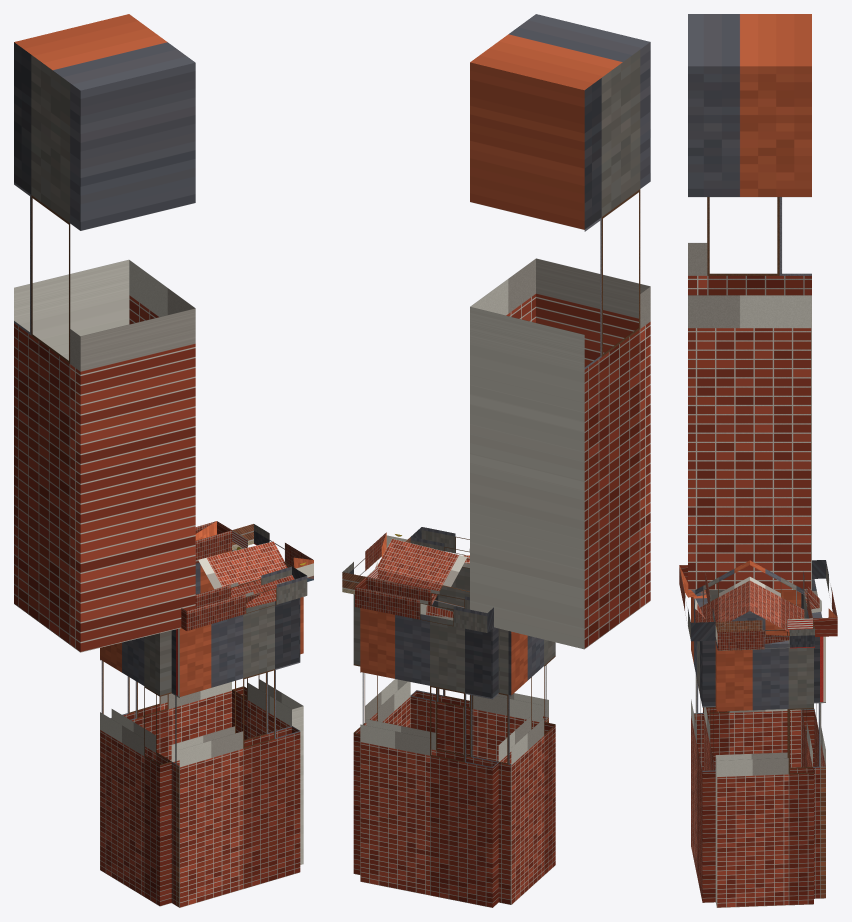
The picture shows the model from 3 angles, left to right: view 1: azimuth 30°, elevation 25°; view 2: azimuth 150°, elevation 25°; view 3: azimuth 270°, elevation 25°; orthographic projection. The views are drawn at different scales.
Parts seen in each view (by area): view 1: 1106965494__chimney_0_xb, 1106965494__wall_0_xb, 1106965494__wall_1_xb, 1106965494__wall_2_xb, 1106965494__wall_3_xb, 1106965494_roof_-1_xb, 1106965494__cornice_0, 1106965494__cornice_3, 1106965494__cornice_2; view 2: 1106965494__chimney_0_xb, 1106965494__wall_2_xb, 1106965494__wall_1_xb, 1106965494__wall_0_xb, 1106965494__cornice_2, 1106965494__wall_3_xb, 1106965494_roof_1_xb, 1106965494__cornice_3, 1106965494__cornice_0; view 3: 1106965494__chimney_0_xb, 1106965494__wall_3_xb, 1106965494__wall_0_xb, 1106965494__wall_1_xb, 1106965494__wall_2_xb, 1106965494__cornice_3, 1106965494_roof_1_xb, 1106965494_roof_-1_xb, 1106965494__cornice_2, 1106965494__cornice_0.
Part boxes in pixels (x1,y1,x2,y2): 1106965494__chimney_0_xb: (14,14,195,652); 1106965494__wall_0_xb: (171,598,300,907); 1106965494__wall_1_xb: (100,630,171,906); 1106965494__wall_2_xb: (110,550,231,761); 1106965494__wall_3_xb: (232,547,303,864); 1106965494_roof_-1_xb: (196,541,294,608); 1106965494__cornice_0: (181,566,307,630); 1106965494__cornice_3: (232,524,313,581); 1106965494__cornice_2: (195,521,231,560); 1106965494__chimney_0_xb: (470,14,650,649); 1106965494__wall_2_xb: (360,608,498,907); 1106965494__wall_1_xb: (498,628,555,904); 1106965494__wall_0_xb: (410,563,548,761); 1106965494__cornice_2: (355,577,493,632); 1106965494__wall_3_xb: (353,594,410,874); 1106965494_roof_1_xb: (376,538,469,607); 1106965494__cornice_3: (342,532,410,594); 1106965494__cornice_0: (410,527,469,568); 1106965494__chimney_0_xb: (688,14,811,589); 1106965494__wall_3_xb: (715,640,813,907); 1106965494__wall_0_xb: (691,590,715,902); 1106965494__wall_1_xb: (703,590,801,768); 1106965494__wall_2_xb: (801,579,825,898); 1106965494__cornice_3: (715,618,814,650); 1106965494_roof_1_xb: (750,560,804,632); 1106965494_roof_-1_xb: (695,560,749,626); 1106965494__cornice_2: (803,560,837,636); 1106965494__cornice_0: (679,565,715,641).
Size of the model in its own units: 0.325 by 1.05 by 0.1918.
1 material, 1 textured.
